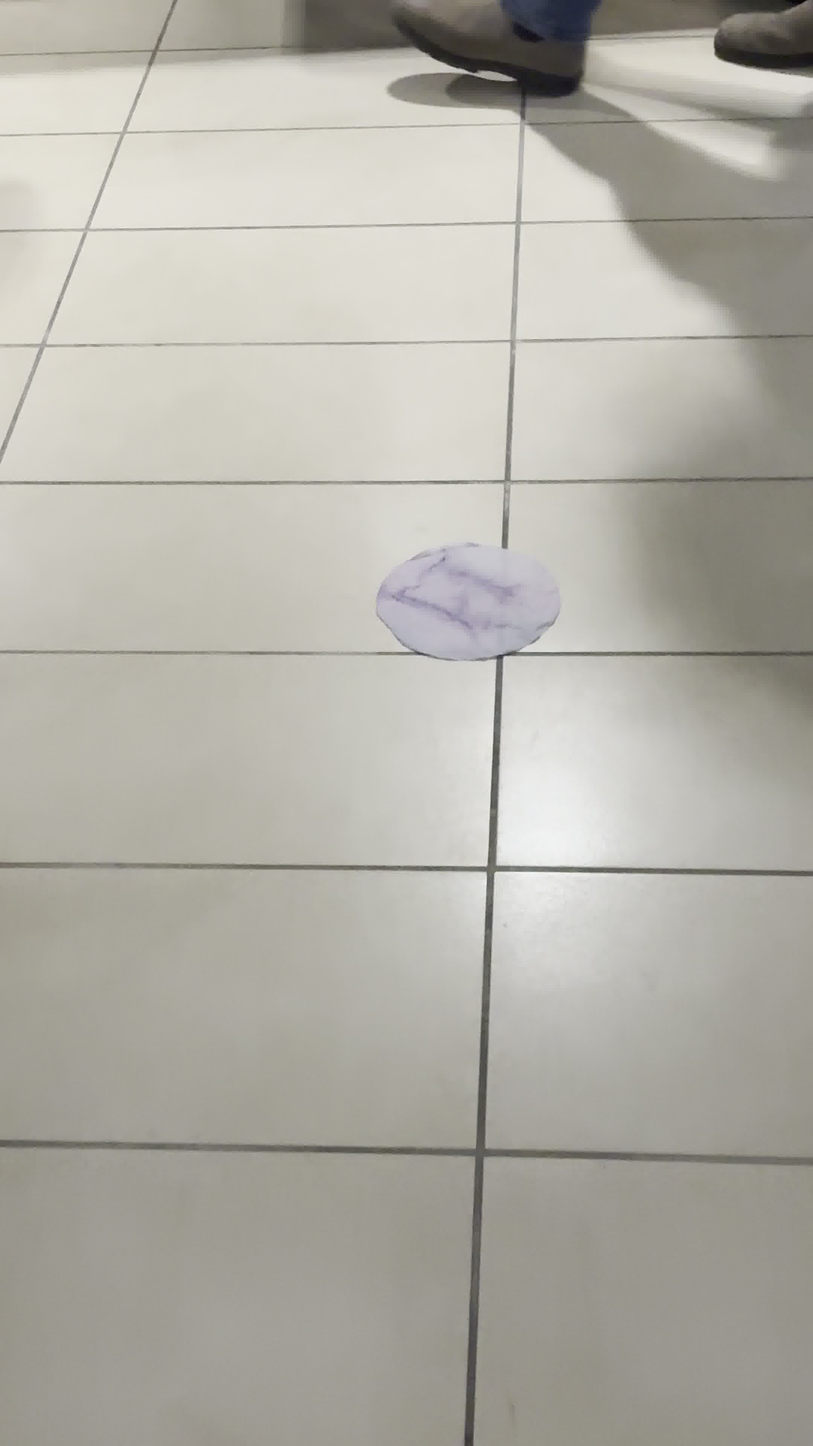Target: (376, 540, 556, 664)
